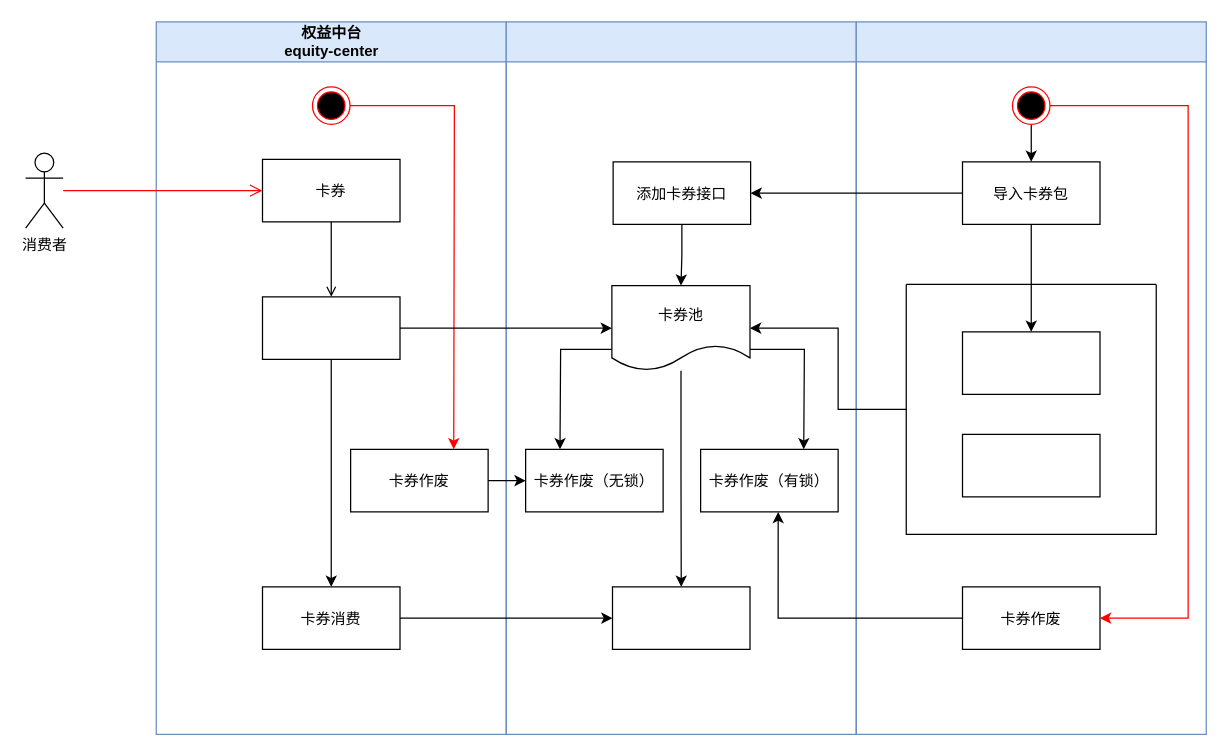
This 1228x756 diagram has some shape labels left out. Each missing label, with the box of its shape:
jeecg后台管理: (855, 21, 1206, 734)
卡券中心 ticket-center: (505, 21, 856, 734)
卡券包消费接口: (611, 586, 750, 649)
查询卡券: (261, 296, 400, 359)
查询卡券列表: (961, 331, 1100, 394)
查询卡券明细: (961, 433, 1100, 497)
